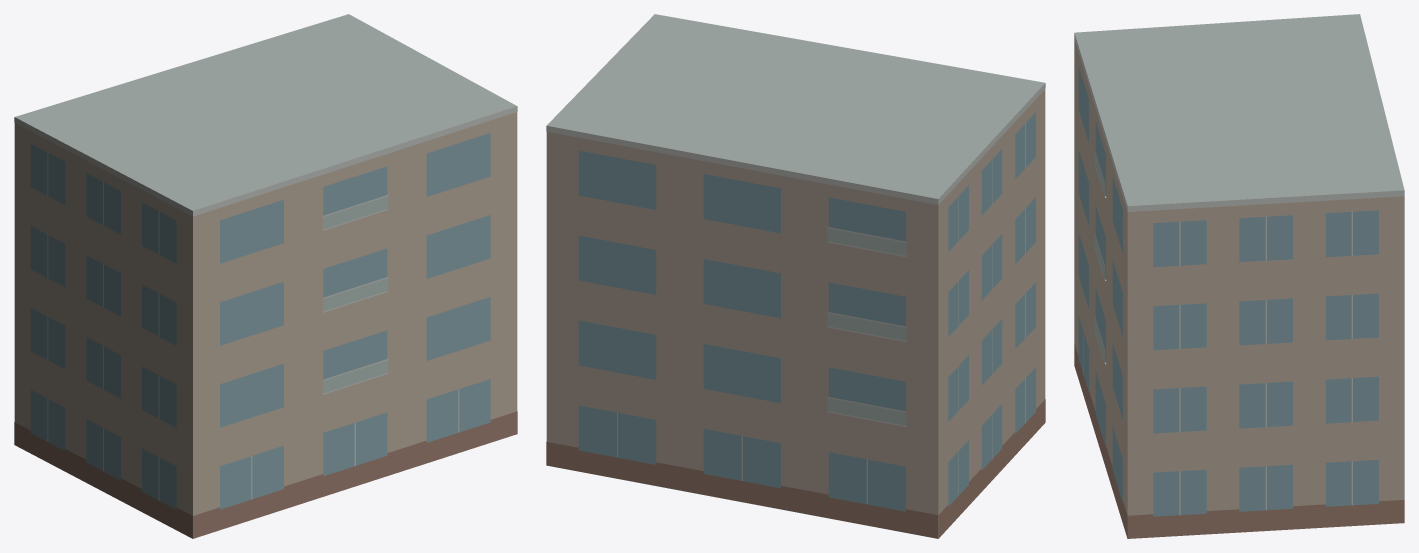
Rendered from survey-upis-33024855.glb.
3 renders of one model, left to right at view 1: azimuth 30°, elevation 25°; view 2: azimuth 150°, elevation 25°; view 3: azimuth 270°, elevation 25°, orthographic. The views are drawn at different scales.
Parts seen in each view (by area): view 1: survey-upis-33024855.tmp; view 2: survey-upis-33024855.tmp; view 3: survey-upis-33024855.tmp.
Boxes of the visible parts, box(x1,y1,x2,y2) form: survey-upis-33024855.tmp: box(14, 14, 517, 538); survey-upis-33024855.tmp: box(546, 14, 1045, 538); survey-upis-33024855.tmp: box(1074, 14, 1404, 538).
Bounding box in the file's own units: 17.3 × 13.95 × 12.56.
